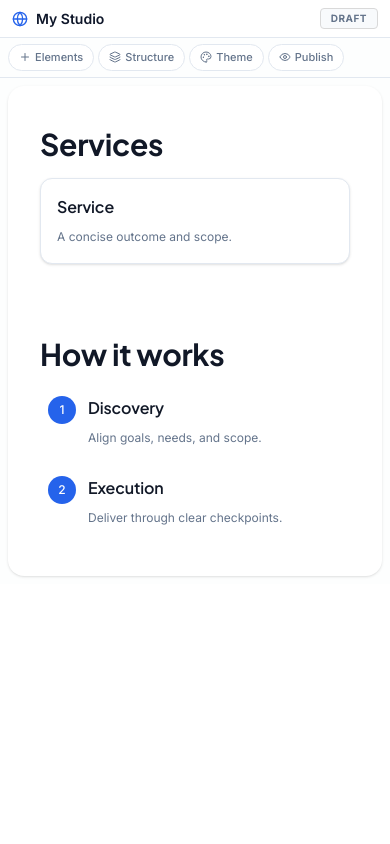
mobile canvas-first surface › opens the Structure drawer listing sections with reorder, duplicate, delete
Click the button "Structure": (142, 57) x1=98 y1=44 x2=185 y2=70
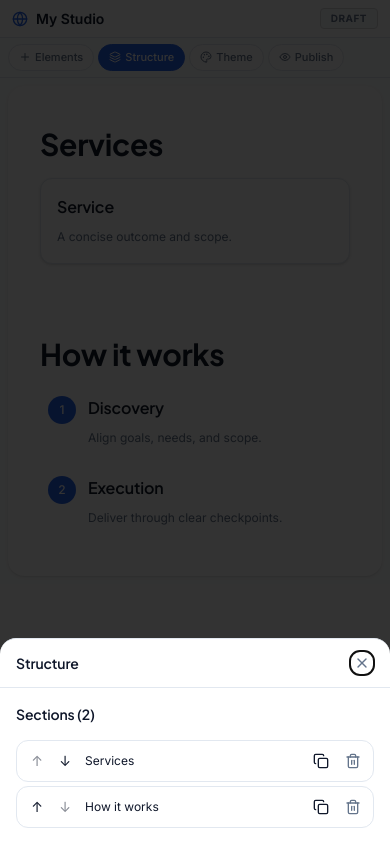
Check: the dialog with test id "mobile-drawer-structure" shows "Sections", box x1=16 y1=705 x2=75 y2=723
Check: the button with id "section-row-default-services" is shown, box x1=85 y1=753 x2=301 y2=769
Check: the number of buttons named "Move section up" is 2, box x1=25 y1=749 x2=49 y2=773; x1=25 y1=795 x2=49 y2=819
